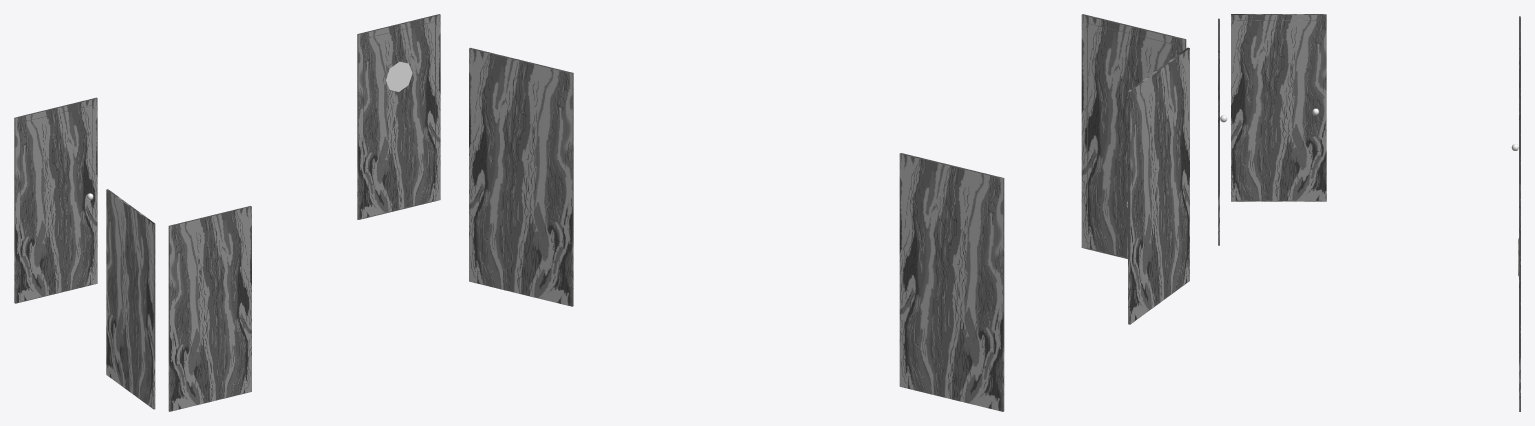
The model's file is puertas.glb.
3 renders of one model, left to right at view 1: azimuth 30°, elevation 25°; view 2: azimuth 150°, elevation 25°; view 3: azimuth 270°, elevation 25°, orthographic. The views are drawn at different scales.
Parts seen in each view (by area): view 1: Plane.001; view 2: Plane.001; view 3: Plane.001.
Boxes of the visible parts, box(x1,y1,x2,y2) form: Plane.001: box(14, 14, 440, 411); Plane.001: box(469, 14, 1189, 411); Plane.001: box(1218, 14, 1520, 411).
Bounding box in the file's own units: 9.69 × 3.99 × 5.87.
2 materials, 1 textured.
